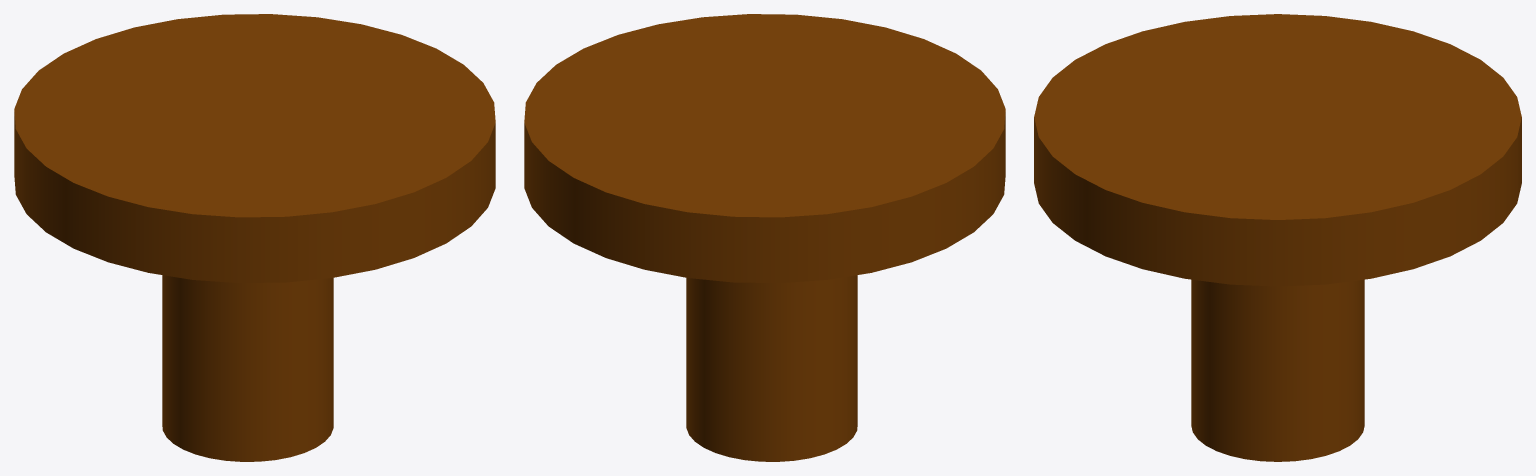
Rendered from Table.fbx.
3 renders of one model, left to right at view 1: azimuth 30°, elevation 25°; view 2: azimuth 150°, elevation 25°; view 3: azimuth 270°, elevation 25°, orthographic.
Visible parts, largest first — view 1: TableTop, TablePost; view 2: TableTop, TablePost; view 3: TableTop, TablePost.
Boxes of the visible parts, <box> form: TableTop: <box>14,14,495,283</box>; TablePost: <box>162,275,333,461</box>; TableTop: <box>524,14,1005,283</box>; TablePost: <box>686,275,857,461</box>; TableTop: <box>1034,14,1521,286</box>; TablePost: <box>1191,279,1364,461</box>.
Size of the model in its own units: 333 by 235 by 333.
